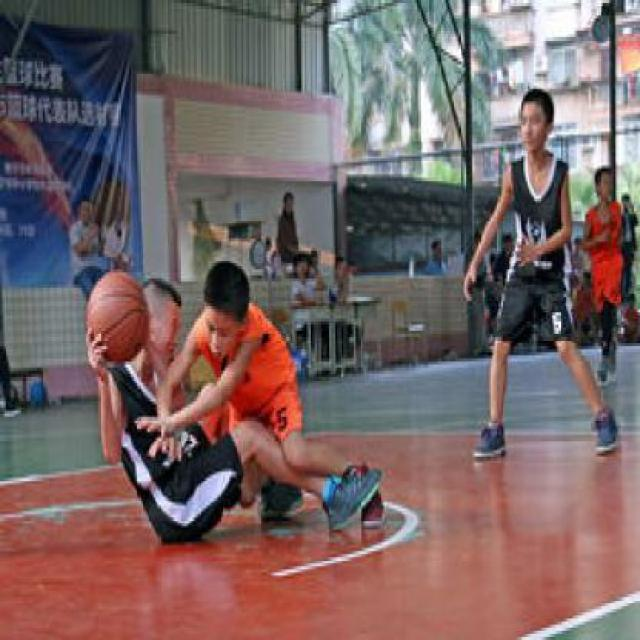fall: (67, 240, 375, 548)
